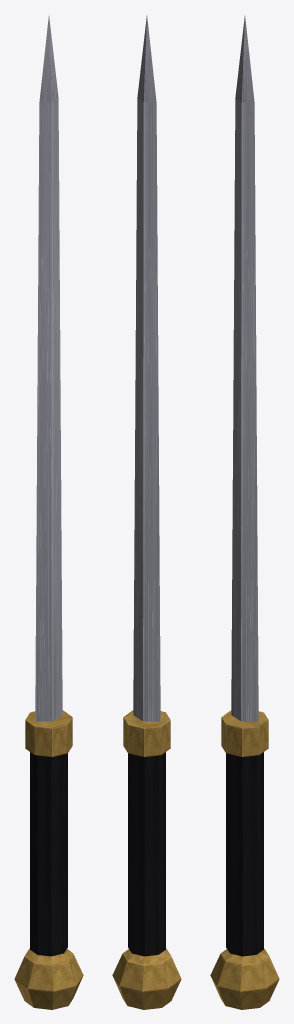
File: CaneSword.fbx
The picture shows the model from 3 angles, left to right: view 1: azimuth 30°, elevation 25°; view 2: azimuth 150°, elevation 25°; view 3: azimuth 330°, elevation 25°; orthographic projection.
Visible parts, largest first — view 1: Blade, Handle, Guard; view 2: Blade, Handle, Guard; view 3: Blade, Handle, Guard.
Boxes of the visible parts, x1=… form: Blade: x1=35, y1=15, x2=62, y2=721; Handle: x1=14, y1=752, x2=83, y2=1009; Guard: x1=25, y1=710, x2=72, y2=756; Blade: x1=133, y1=15, x2=160, y2=721; Handle: x1=112, y1=752, x2=181, y2=1009; Guard: x1=123, y1=710, x2=170, y2=756; Blade: x1=231, y1=15, x2=258, y2=721; Handle: x1=210, y1=752, x2=279, y2=1009; Guard: x1=221, y1=710, x2=268, y2=756.
Size of the model in its own units: 20.33 by 346 by 20.33.
1 material, 1 textured.
